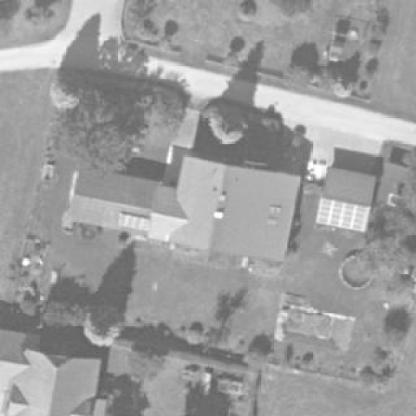solar-pv-panel: (318, 200, 369, 232), (119, 215, 150, 230)
